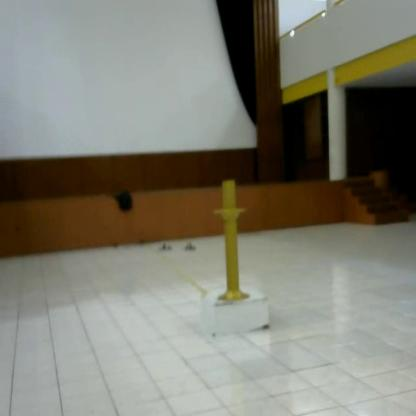pole: (211, 178, 253, 313)
